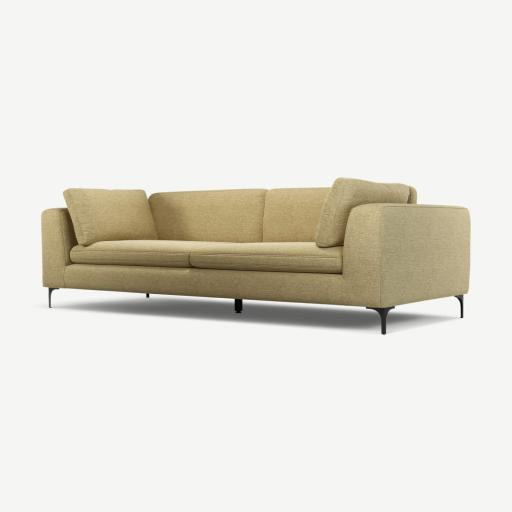back_cushion: (64, 189, 328, 246)
base: (57, 264, 380, 306)
left_arm: (340, 205, 470, 306)
legs: (367, 306, 395, 334), (48, 288, 60, 308), (230, 298, 242, 314), (455, 295, 463, 318), (145, 294, 150, 298)
right_arm: (42, 208, 76, 288)
seat_cushion: (71, 240, 343, 274)
two-seater: (0, 0, 511, 512)
